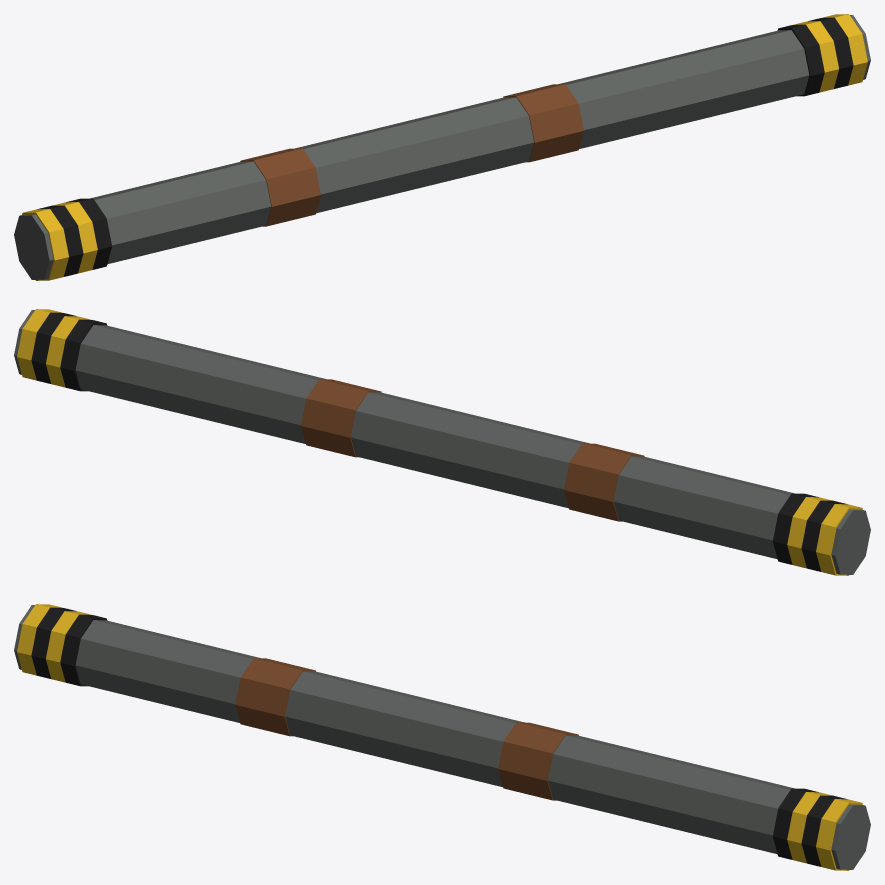
File: pipe_straight.glb
The picture shows the model from 3 angles, top to bottom: view 1: azimuth 30°, elevation 25°; view 2: azimuth 150°, elevation 25°; view 3: azimuth 330°, elevation 25°; orthographic projection.
Parts seen in each view (by area): view 1: surf_climb_pipe_straight; view 2: surf_climb_pipe_straight; view 3: surf_climb_pipe_straight.
Boxes of the visible parts, bbox=[...] form: surf_climb_pipe_straight: bbox=[14, 14, 870, 280]; surf_climb_pipe_straight: bbox=[14, 309, 870, 575]; surf_climb_pipe_straight: bbox=[14, 604, 870, 870].
Size of the model in its own units: 2 by 0.159 by 0.159.
